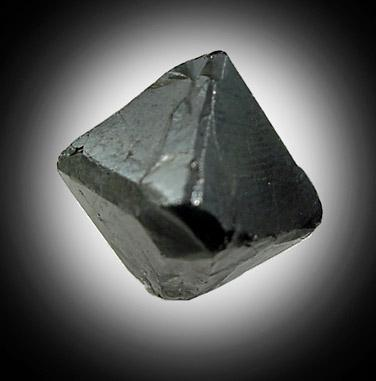magnetite: (58, 51, 323, 252)
